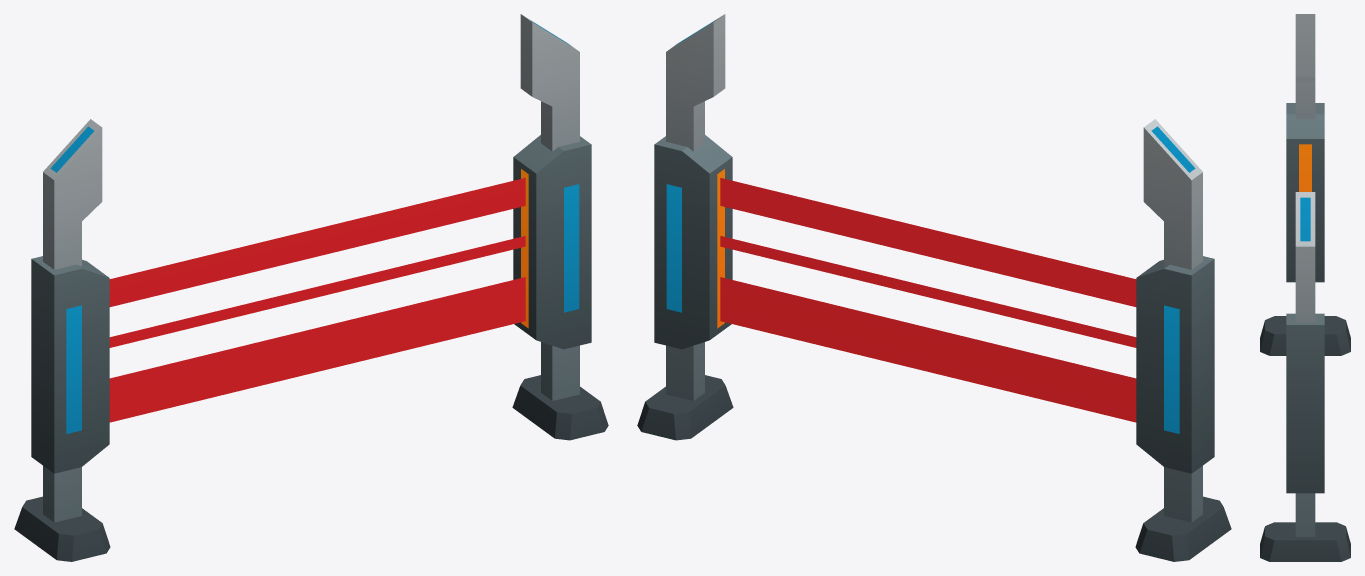
File: Barriaer_010.glb
3 views of the same model, side by side, from view 1: azimuth 30°, elevation 25°; view 2: azimuth 150°, elevation 25°; view 3: azimuth 270°, elevation 25° (orthographic). The views are drawn at different scales.
Parts seen in each view (by area): view 1: Barriaer_010; view 2: Barriaer_010; view 3: Barriaer_010.
Part boxes in pixels (x1,y1,x2,y2): Barriaer_010: [14, 14, 608, 561]; Barriaer_010: [637, 14, 1231, 561]; Barriaer_010: [1260, 14, 1350, 561].
Size of the model in its own units: 1.99 by 1.4 by 0.3351.
2 materials, 2 textured.
